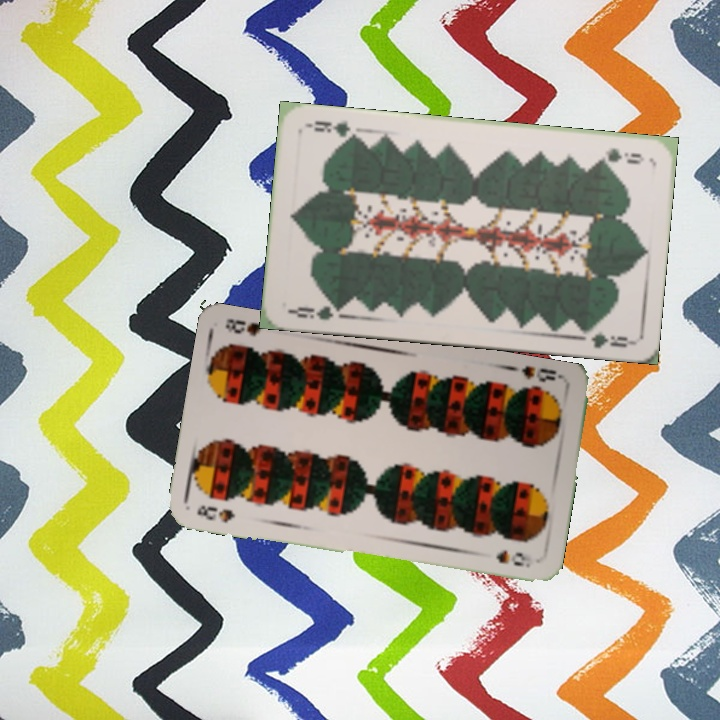G9: (285, 299, 345, 323), (594, 144, 647, 167)
S8: (517, 362, 568, 385), (192, 501, 238, 525)
